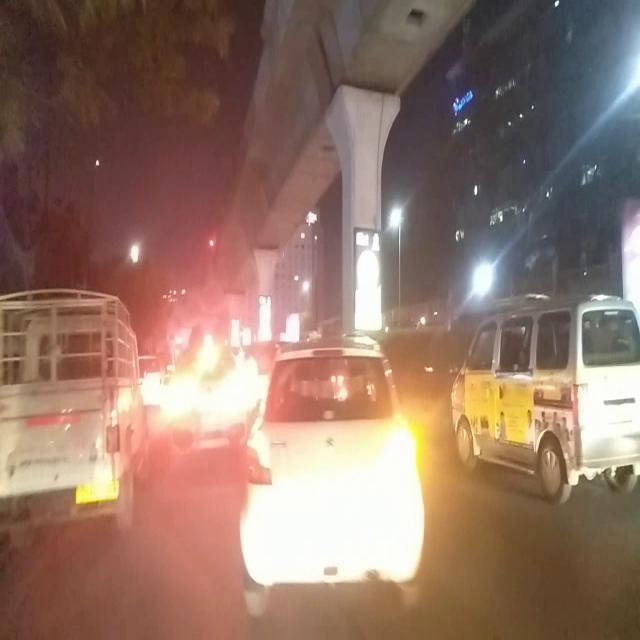car: (240, 337, 425, 612), (447, 304, 640, 506)
road: (0, 470, 633, 639)
van: (0, 289, 150, 540)
